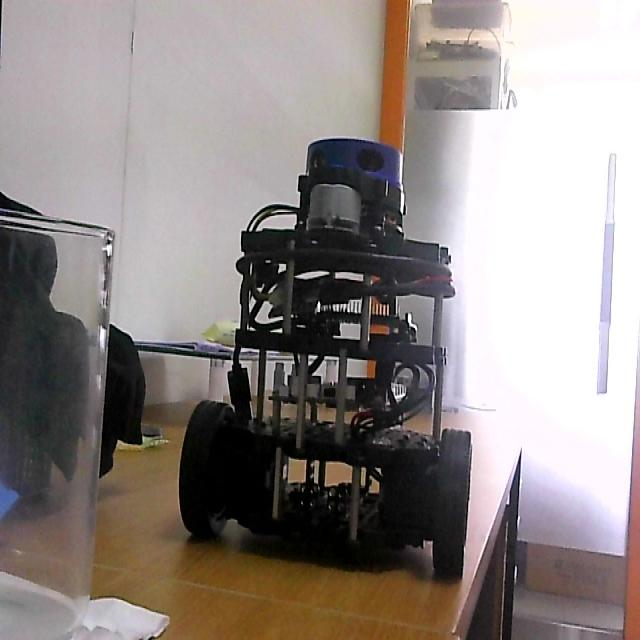turtle: (177, 134, 474, 584)
